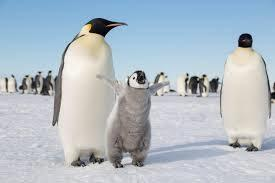emporer: (49, 10, 146, 171), (217, 29, 275, 156)
